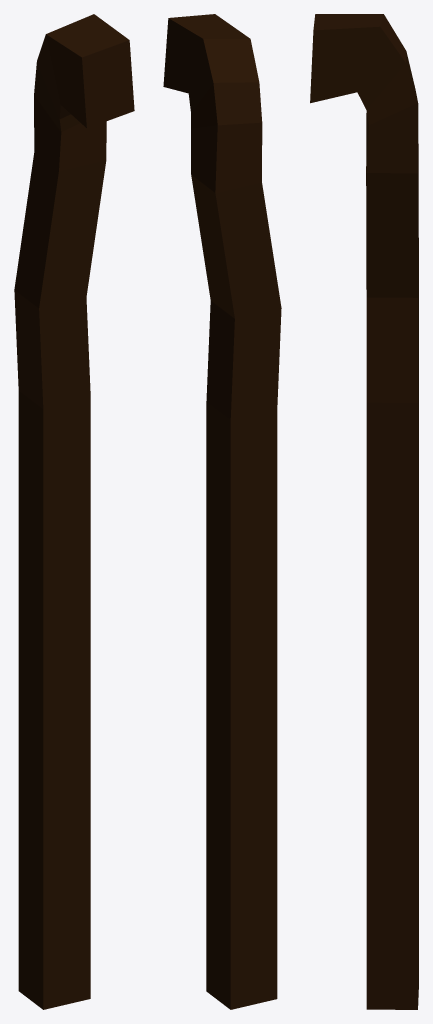
The model's file is instrutorPAU.fbx.
The picture shows the model from 3 angles, left to right: view 1: azimuth 30°, elevation 25°; view 2: azimuth 210°, elevation 25°; view 3: azimuth 270°, elevation 25°; orthographic projection. The views are drawn at different scales.
Parts seen in each view (by area): view 1: bastão; view 2: bastão; view 3: bastão.
Part boxes in pixels (x1,y1,x2,y2): bastão: (14, 14, 134, 1009); bastão: (163, 14, 281, 1009); bastão: (310, 14, 418, 1009).
Bounding box in the file's own units: 1.81 × 24.72 × 2.47.
